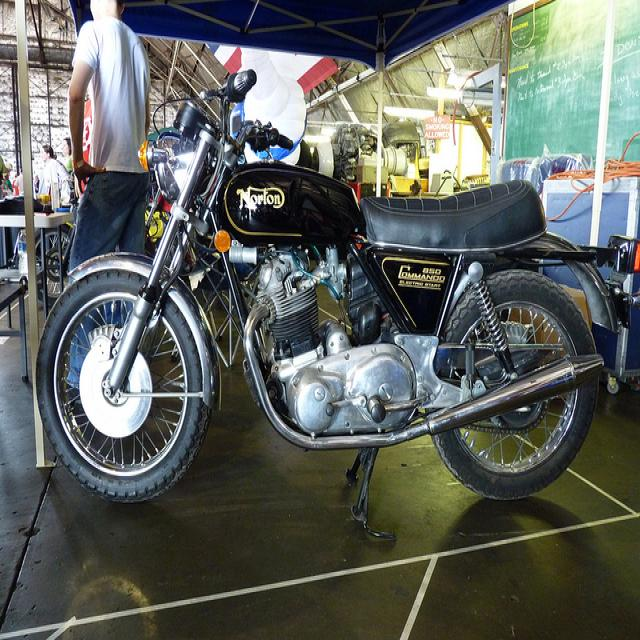motor: (36, 67, 629, 548)
